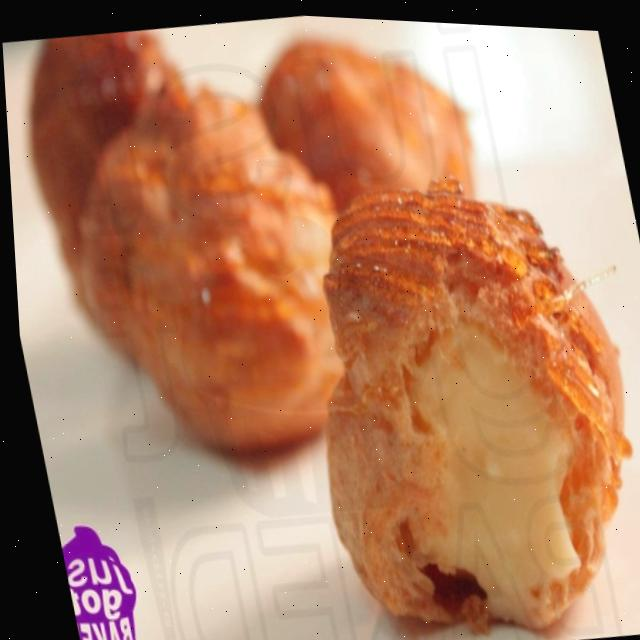炸货点心: (188, 111, 640, 640)
蛋糕甜品: (188, 111, 640, 640)
